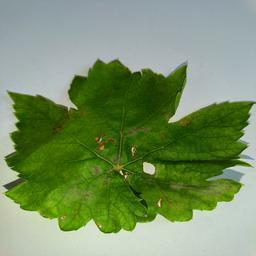Powdery-Mildew: (182, 118, 235, 199)
